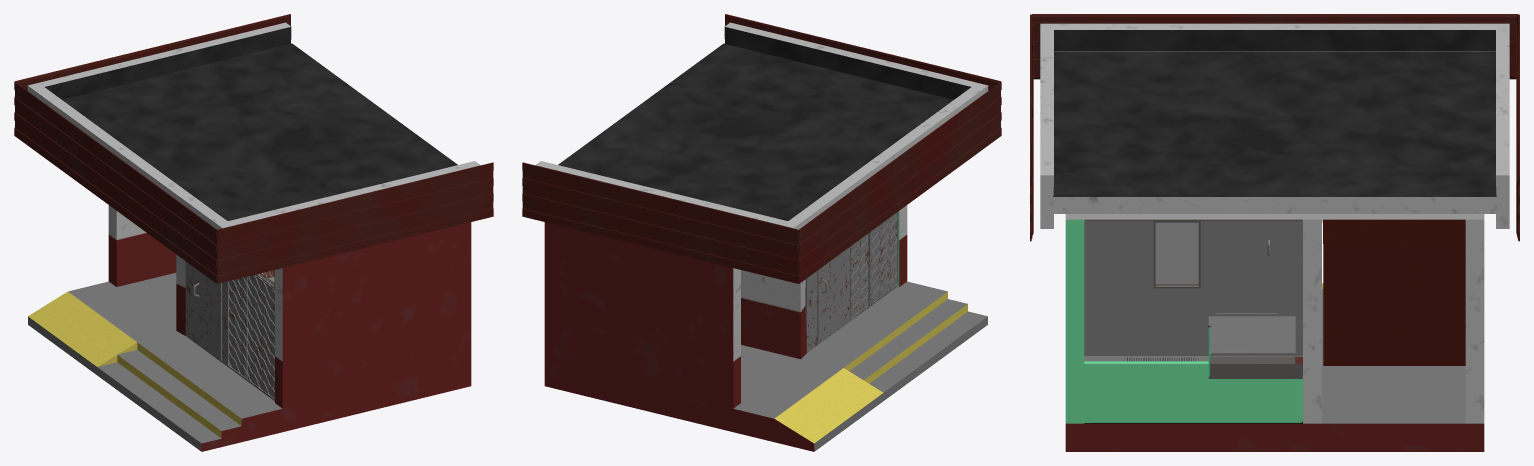
Rendered from Entrance.fbx.
3 renders of one model, left to right at view 1: azimuth 30°, elevation 25°; view 2: azimuth 150°, elevation 25°; view 3: azimuth 270°, elevation 25°, orthographic. The views are drawn at different scales.
Visible parts, largest first — view 1: Entrance_roof_metal.004, Entrance_roof.004, Entrance_right_side.004, Entrance_fundament.004, Entrance_face.004, Entrance_left_side.004, Cylinder.037, Entrance_door.004, Entrance_center.004; view 2: Entrance_roof_metal.004, Entrance_roof.004, Entrance_left_side.004, Entrance_fundament.004, Entrance_center.004, Entrance_face.004, Entrance_door.004, Cylinder.037, Entrance_right_side.004; view 3: Entrance_roof.004, Entrance_roof_metal.004, Entrance_fundament.004, Entrance_garbage_door.004, Entrance_face.001, Cube.001, Entrance_face.004, Entrance_door.004, Entrance_left_side.004, Entrance_right_side.004, Entrance_center.004, Entrance_window.004 (+2 smaller).
Part boxes in pixels (box(x1,y1,x2,y2)): Entrance_roof_metal.004: box(14, 14, 493, 283); Entrance_roof.004: box(62, 43, 457, 220); Entrance_right_side.004: box(275, 222, 471, 408); Entrance_fundament.004: box(28, 272, 471, 451); Entrance_face.004: box(185, 261, 274, 400); Entrance_left_side.004: box(108, 205, 176, 286); Cylinder.037: box(227, 270, 274, 399); Entrance_door.004: box(193, 268, 222, 360); Entrance_center.004: box(176, 254, 274, 335); Entrance_roof_metal.004: box(522, 14, 1001, 283); Entrance_roof.004: box(558, 43, 953, 220); Entrance_left_side.004: box(544, 222, 740, 408); Entrance_fundament.004: box(544, 281, 987, 451); Entrance_center.004: box(741, 270, 806, 359); Entrance_face.004: box(805, 212, 897, 352); Entrance_door.004: box(817, 251, 844, 343); Cylinder.037: box(850, 212, 897, 319); Entrance_right_side.004: box(897, 205, 907, 286); Entrance_roof.004: box(1052, 51, 1497, 213); Entrance_roof_metal.004: box(1030, 14, 1519, 241); Entrance_fundament.004: box(1065, 283, 1484, 451); Entrance_garbage_door.004: box(1322, 219, 1465, 365); Entrance_face.001: box(1084, 219, 1302, 355); Cube.001: box(1084, 361, 1302, 423); Entrance_face.004: box(1155, 222, 1295, 316); Entrance_door.004: box(1215, 240, 1277, 312); Entrance_left_side.004: box(1465, 219, 1484, 423); Entrance_right_side.004: box(1065, 219, 1084, 423); Entrance_center.004: box(1303, 219, 1321, 423); Entrance_window.004: box(1153, 221, 1200, 288).
Size of the model in its own units: 617 by 494 by 784.
